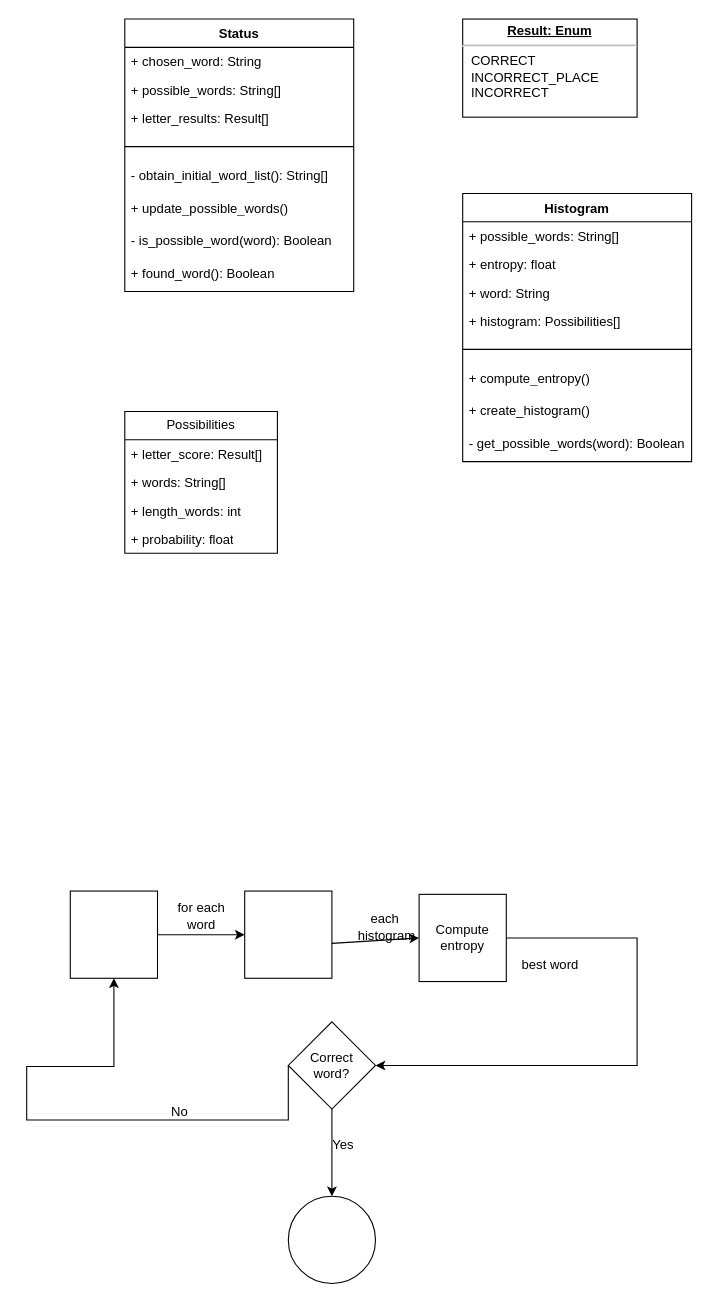
Image size: 711x1303. Some labels were removed from this diagram. The centre of each missing label's shape, as x and y in pixels:
"Create histogram" belongs at point (288, 934).
"Finish, get score" belongs at point (331, 1239).
"Possible Words" belongs at point (113, 934).
